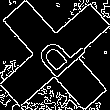P_SW: (24, 25, 86, 85)
